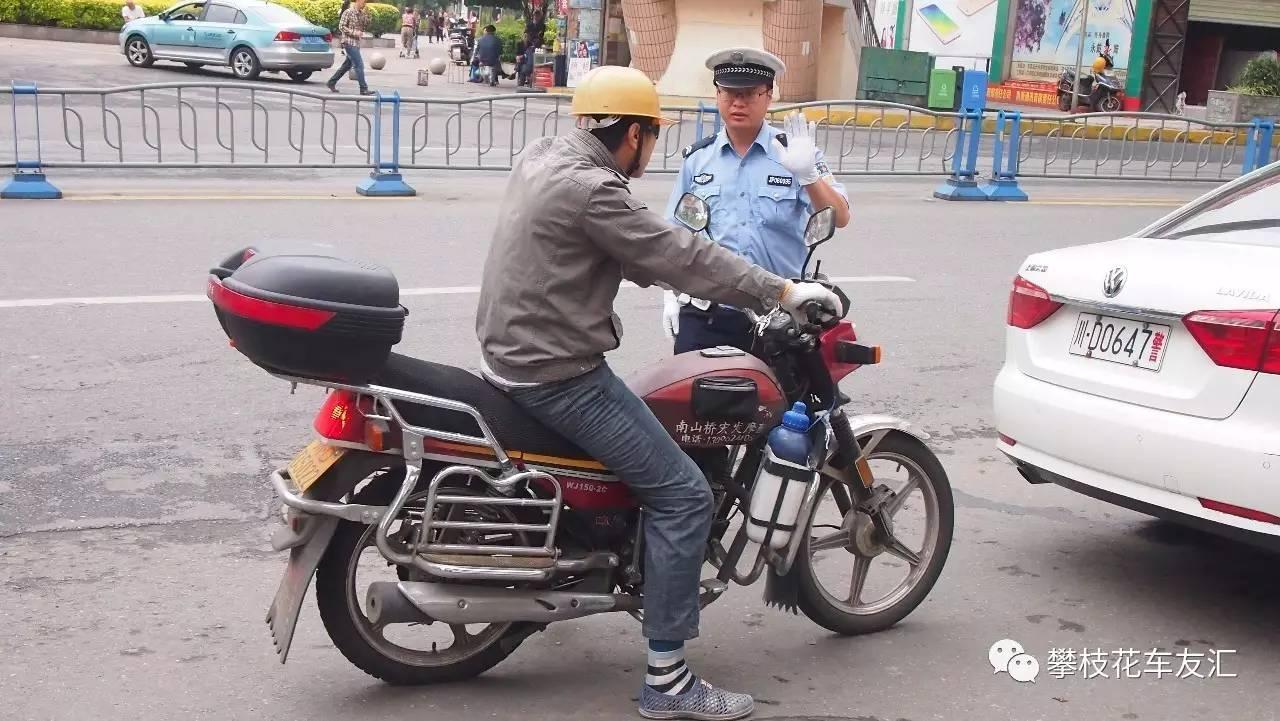helmet: (575, 68, 671, 123)
